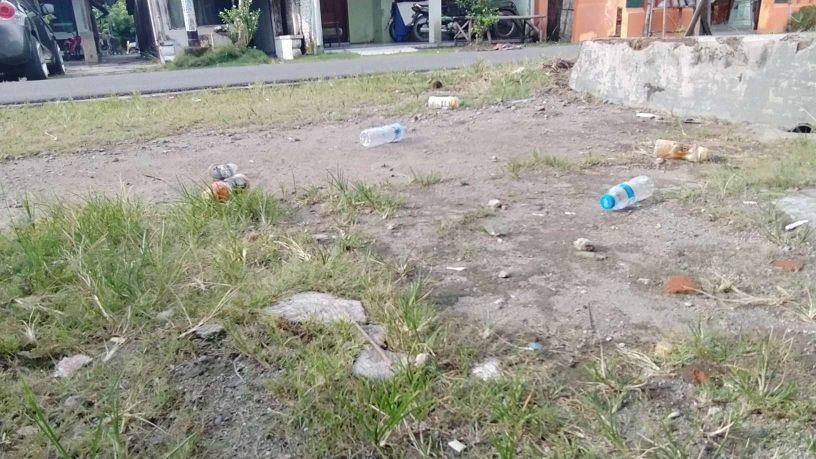botol: (196, 165, 268, 207), (604, 168, 654, 211), (359, 115, 415, 152), (657, 132, 724, 160), (423, 89, 469, 112)
